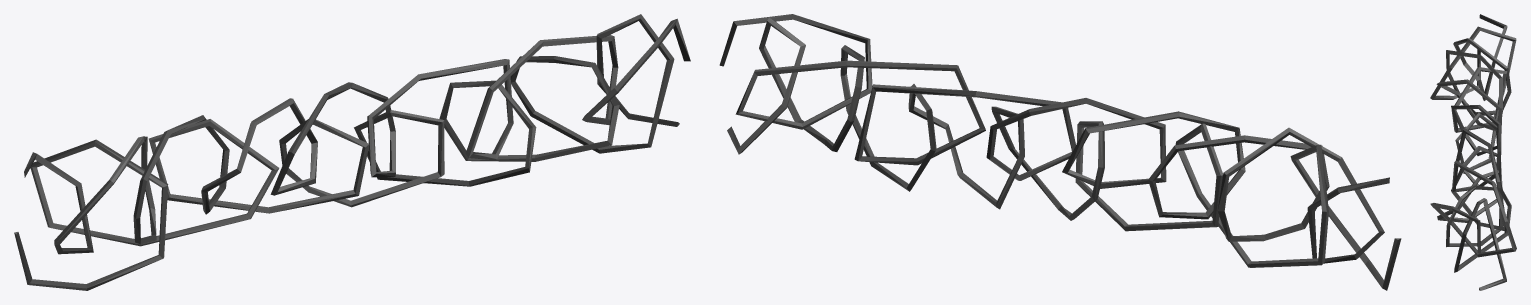
The model's file is Wire.fbx.
3 views of the same model, side by side, from view 1: azimuth 30°, elevation 25°; view 2: azimuth 150°, elevation 25°; view 3: azimuth 270°, elevation 25° (orthographic). The views are drawn at different scales.
Parts seen in each view (by area): view 1: Wire; view 2: Wire; view 3: Wire.
Part boxes in pixels (x1=…): Wire: x1=14, y1=14, x2=690, y2=290; Wire: x1=719, y1=14, x2=1401, y2=290; Wire: x1=1430, y1=14, x2=1516, y2=290.
Size of the model in its own units: 1832 by 339 by 320.
